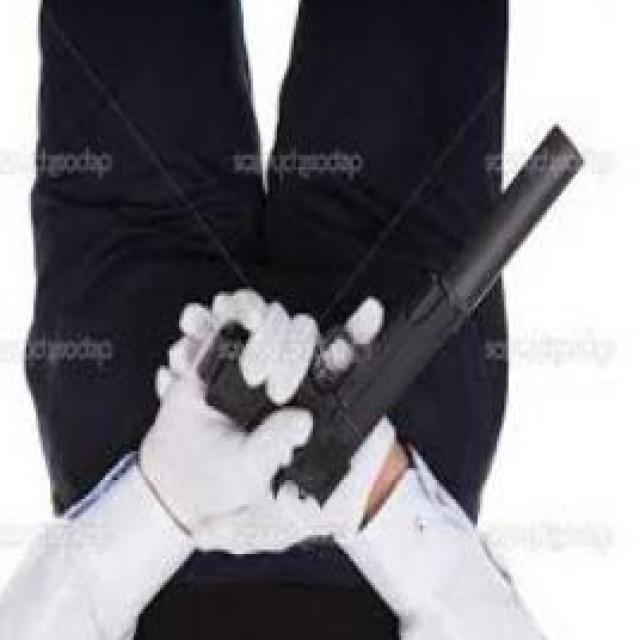pistol: (198, 124, 588, 509)
